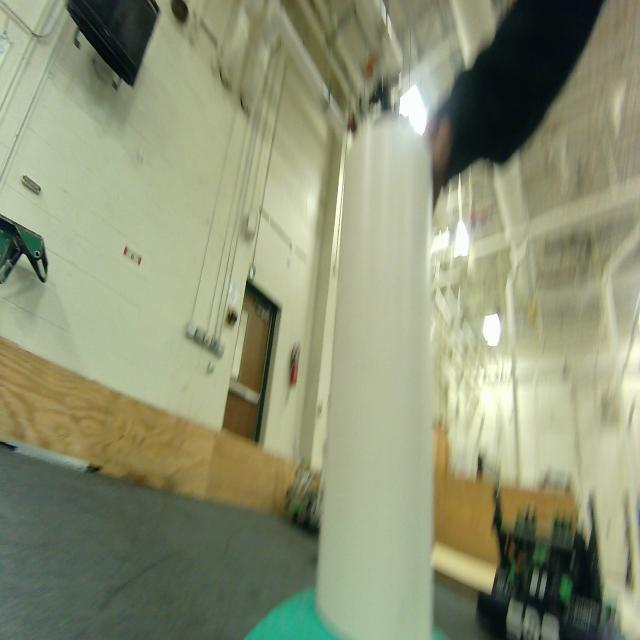algae: (238, 585, 450, 640)
coral: (313, 113, 450, 640)
